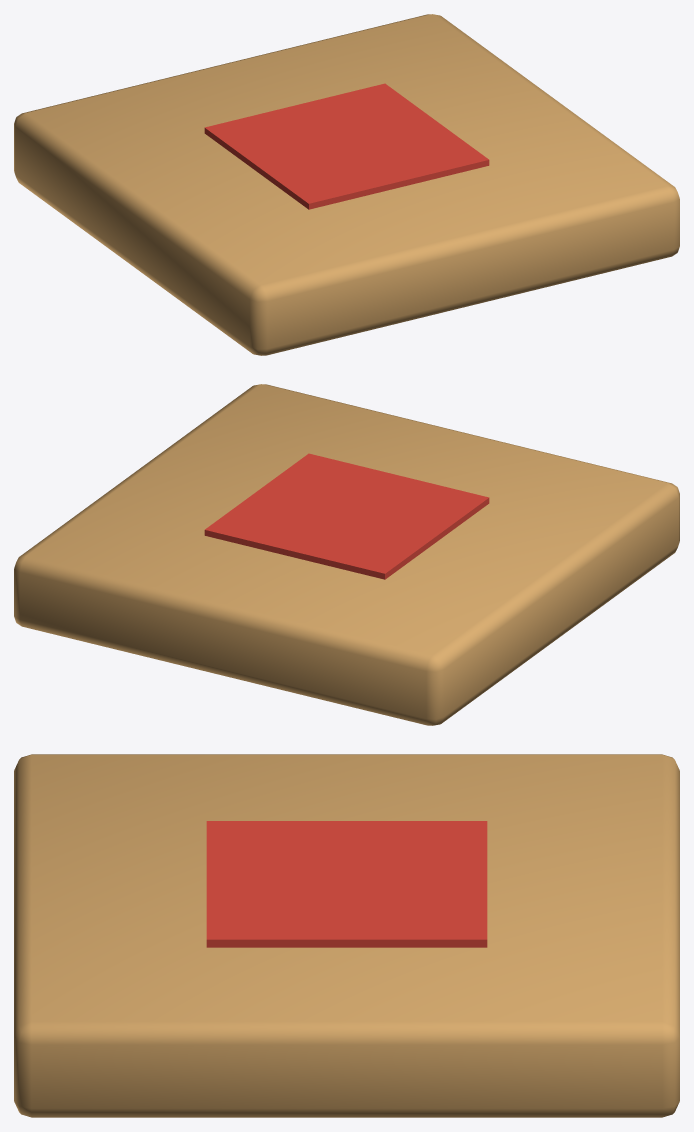
File: pizza_box.gltf
3 renders of one model, top to bottom at view 1: azimuth 30°, elevation 25°; view 2: azimuth 150°, elevation 25°; view 3: azimuth 270°, elevation 25°, orthographic. The views are drawn at different scales.
Parts seen in each view (by area): view 1: pizza_box_mesh; view 2: pizza_box_mesh; view 3: pizza_box_mesh.
Boxes of the visible parts, x1=… form: pizza_box_mesh: x1=14, y1=14, x2=679, y2=355; pizza_box_mesh: x1=14, y1=384, x2=679, y2=725; pizza_box_mesh: x1=14, y1=754, x2=679, y2=1117.
Size of the model in its own units: 0.38 by 0.065 by 0.38.
